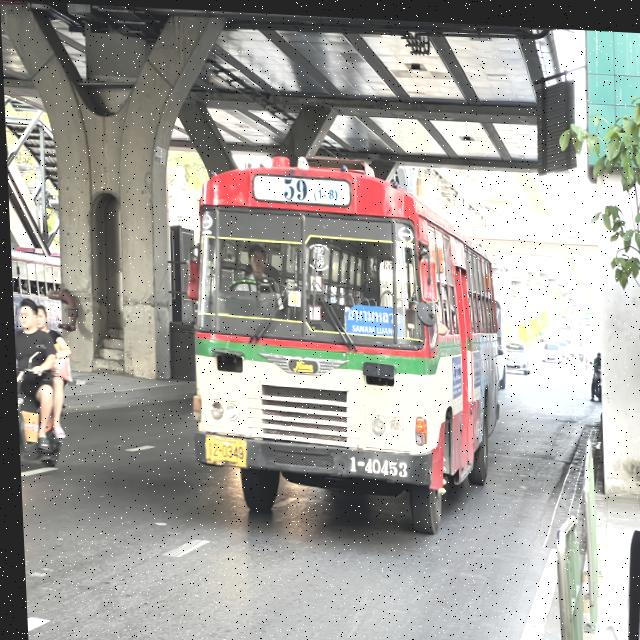BMTA-bus: (180, 155, 508, 535)
Bus-Line-Number: (277, 168, 339, 204)
Destination-Sign-Normal: (340, 298, 403, 334)
